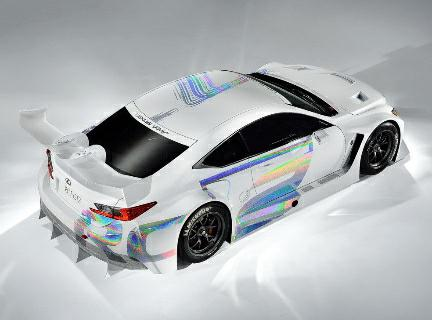雷克萨斯-RCF: (15, 60, 410, 271)
